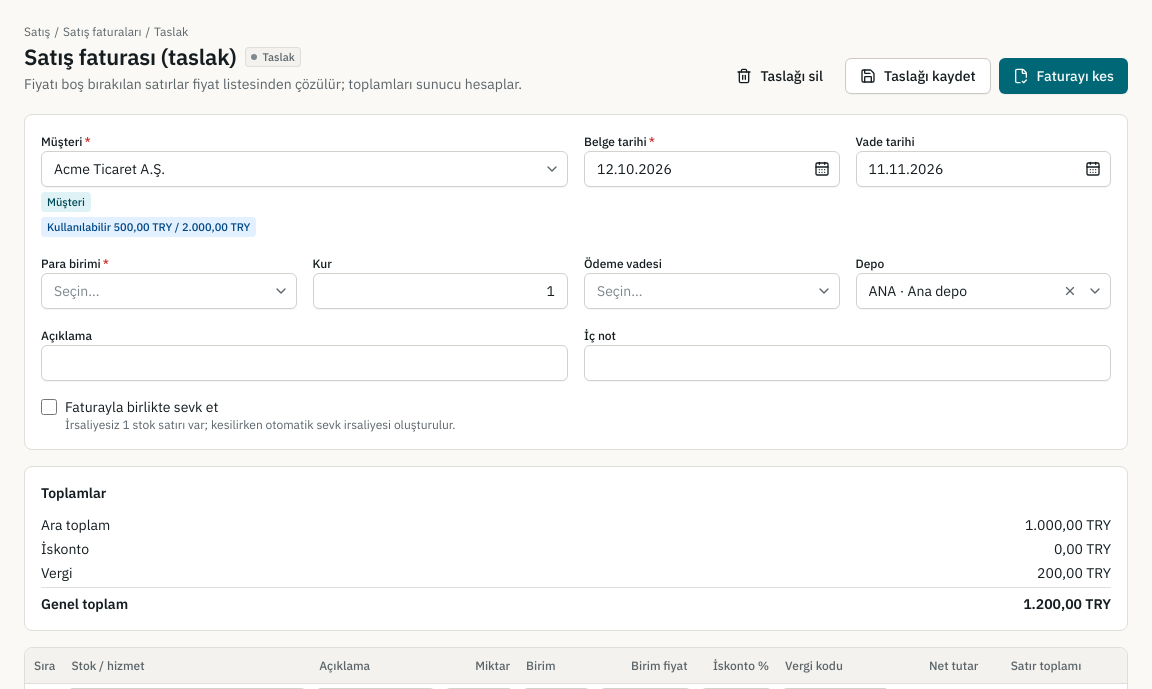
Scenario: invoice editor › issues with exposure shown and warn-mode notes, then shows the number
This screenshot has width=1152, height=689.
expect the heading "Satış faturası (taslak)" is shown: met, box [24,42,236,72]
Click the button "Faturayı kes": (1063, 76) [999,58,1128,94]
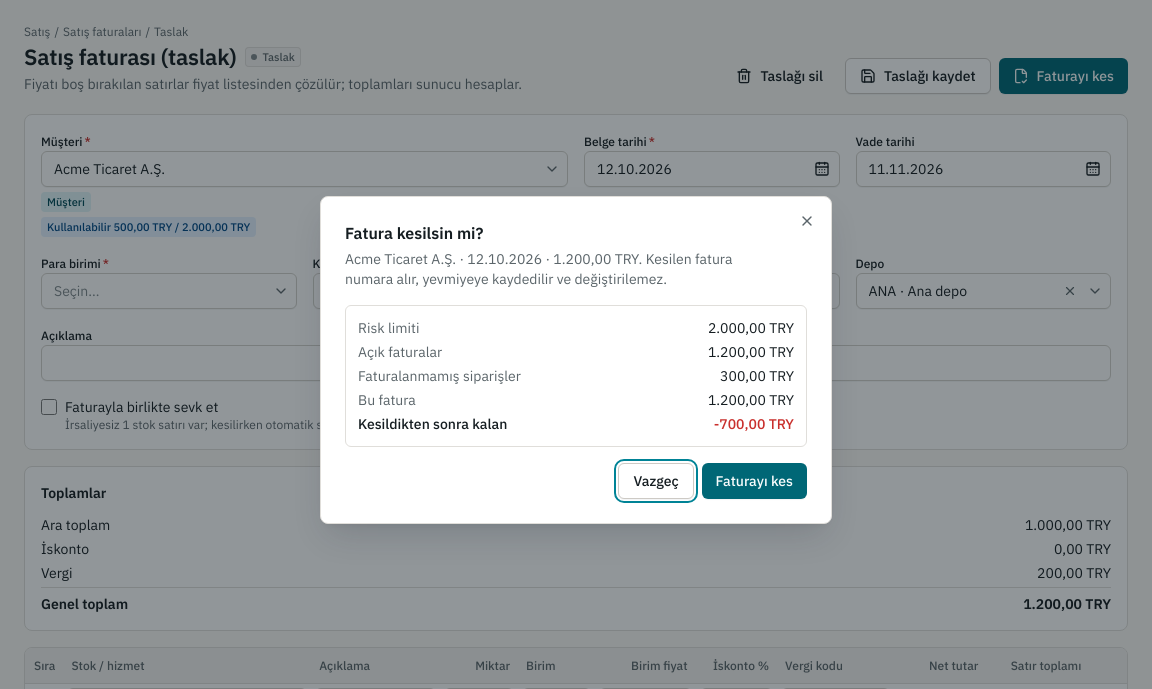
expect the element with test id "exposure" shows "2.000,00 TRY": met, box [708,319,794,337]
expect the element with test id "exposure" shows "-700,00 TRY": met, box [714,415,794,433]
Click the button "Faturayı kes": (754, 481) [702,463,807,499]
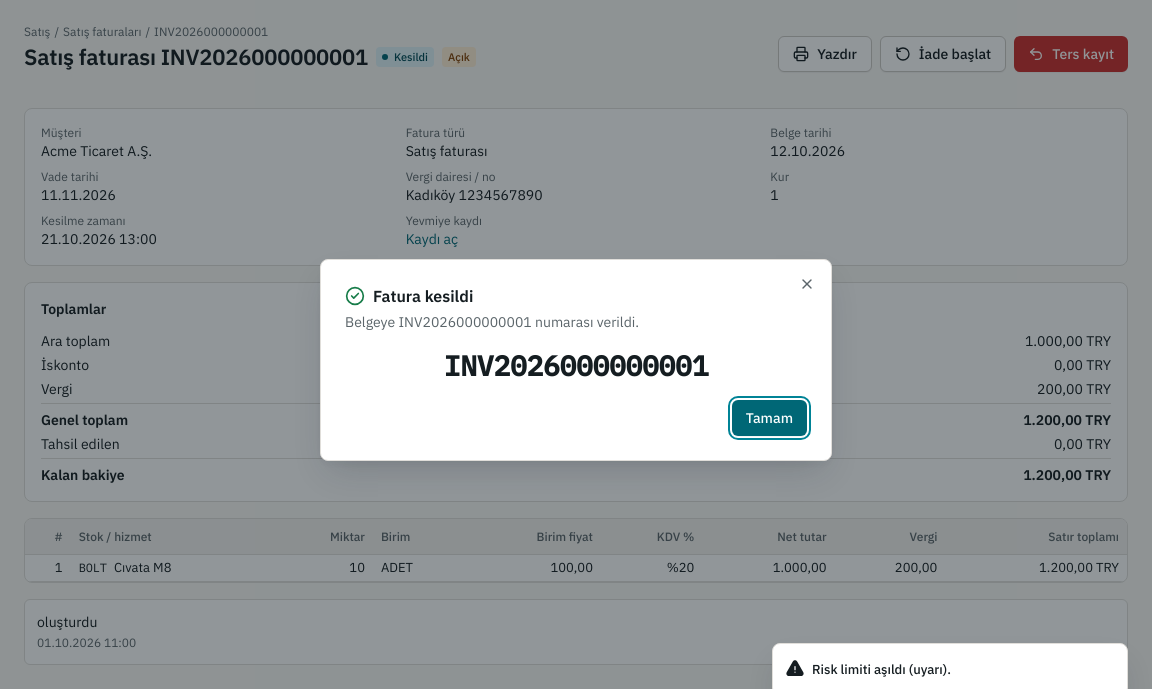
expect the text with test id "assigned-number" reads "INV2026000000001": met, box [444,347,708,384]
expect the text "Risk limiti aşıldı (uyarı)." is shown: met, box [812,660,951,679]
